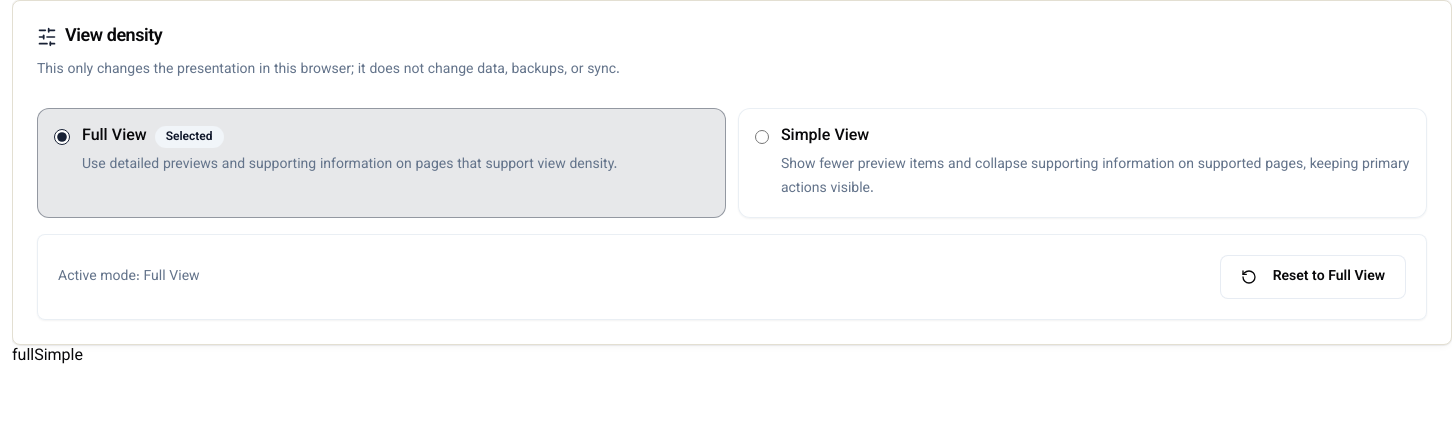
it: Density persistence feedback › reports failed save and reset in the existing density control, then retries (en)
The width and height of the screenshot is (1452, 421).
Click the radio button named "viewDensityMode": click(762, 137) 755,129 -> 769,145
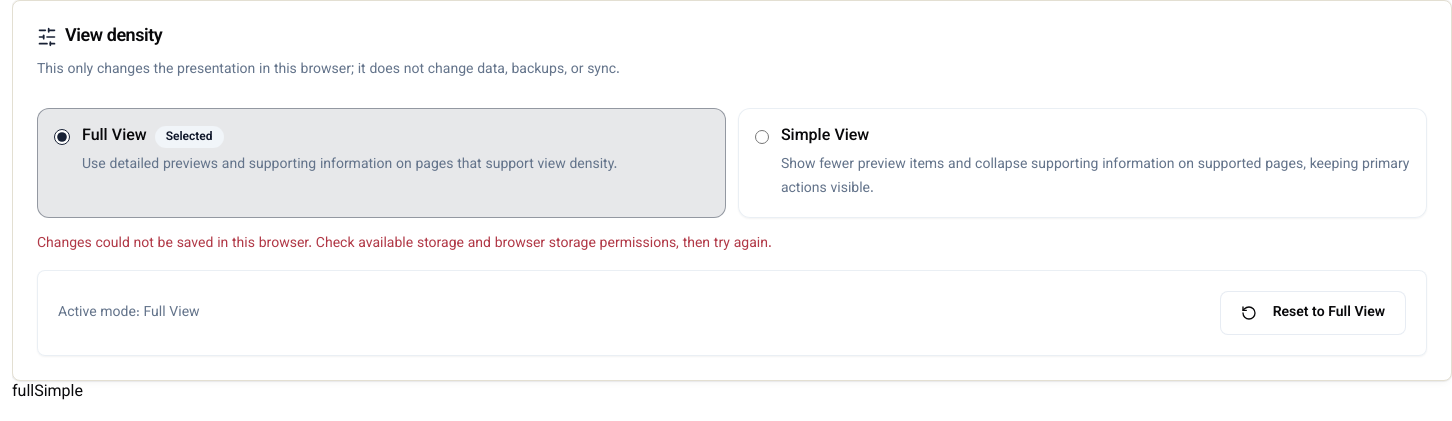
Check: the text "Full" is shown, box 82,124 -> 147,149
Check: the message shows "Changes could not be saved in this browser. Check available storage and browser storage permissions, then try again.", box 37,233 -> 772,255
Click the radio button named "viewDensityMode": click(762, 137) 755,129 -> 769,145
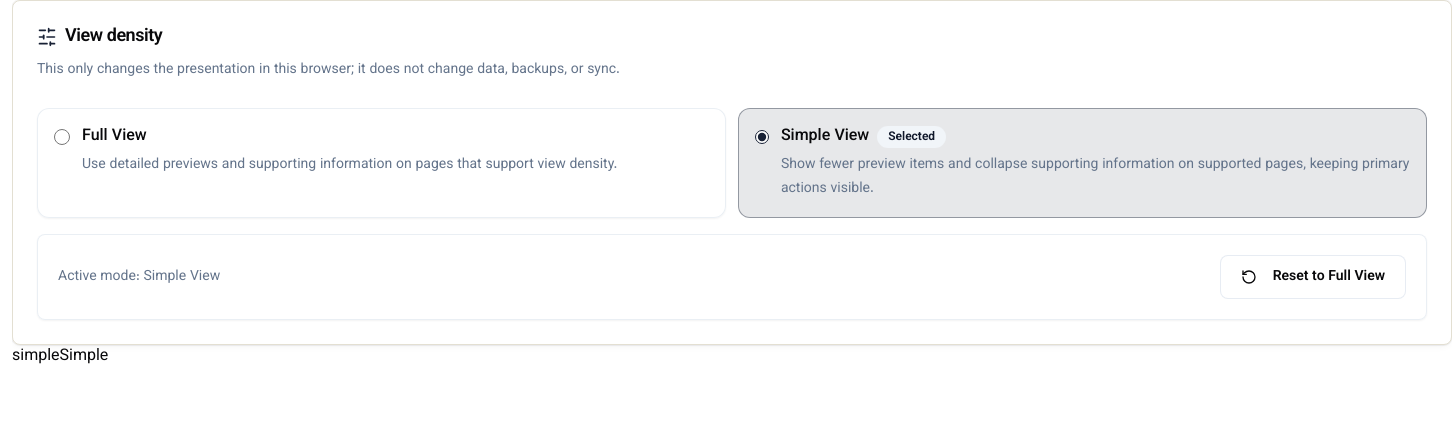
Check: the text "simple" is shown, box 12,344 -> 60,369
Check: the message "Changes could not be saved in this browser. Check available storage and browser" is gone
Click the button "Reset to Full View": click(1313, 277) 1220,255 -> 1406,299
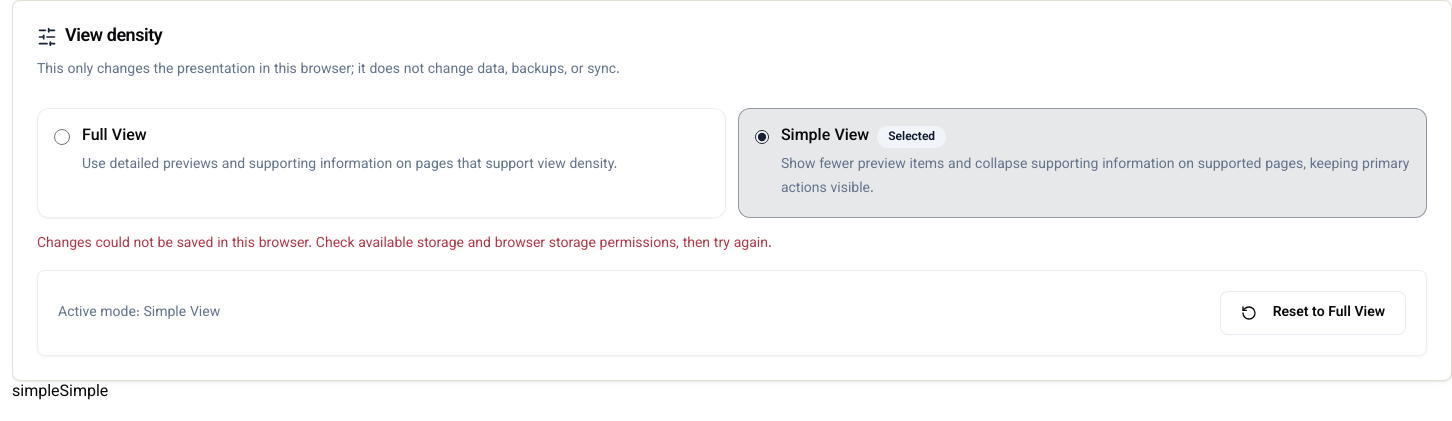
Check: the text "simple" is shown, box 12,380 -> 60,405
Check: the message shows "Changes could not be saved in this browser. Check available storage and browser storage permissions, then try again.", box 37,233 -> 772,255
Click the button "Reset to Full View": click(1313, 313) 1220,291 -> 1406,335
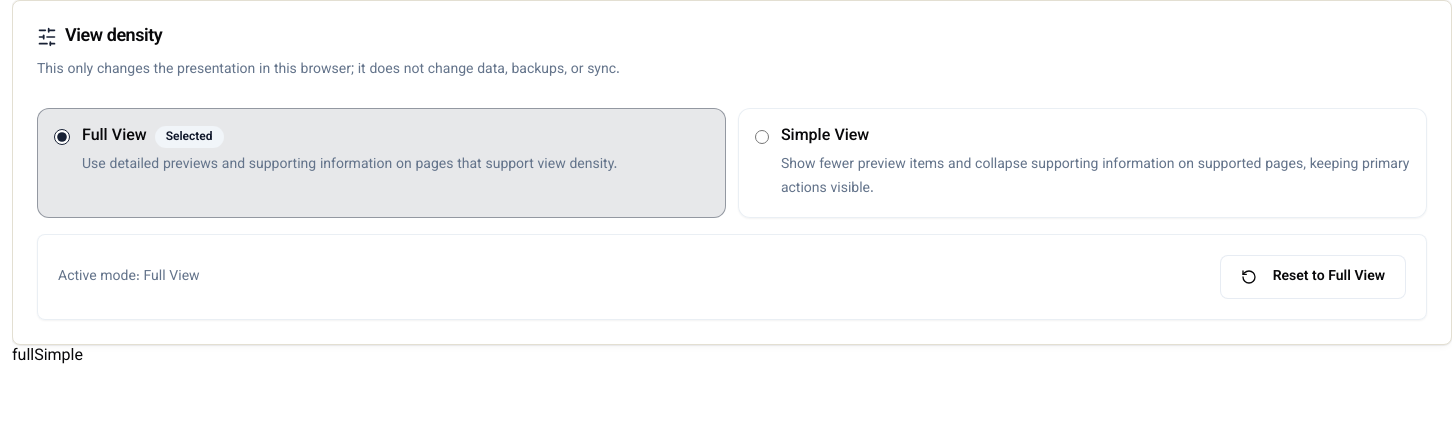
Check: the text "full" is shown, box 12,344 -> 34,369
Check: the message "Changes could not be saved in this browser. Check available storage and browser" is gone
